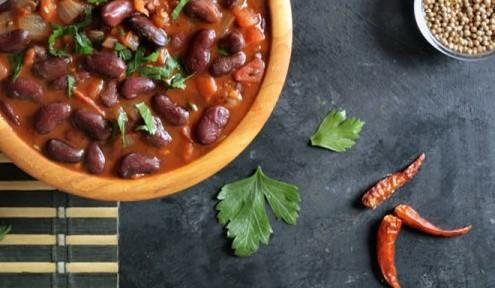RajmaCurry: (0, 0, 269, 178)
